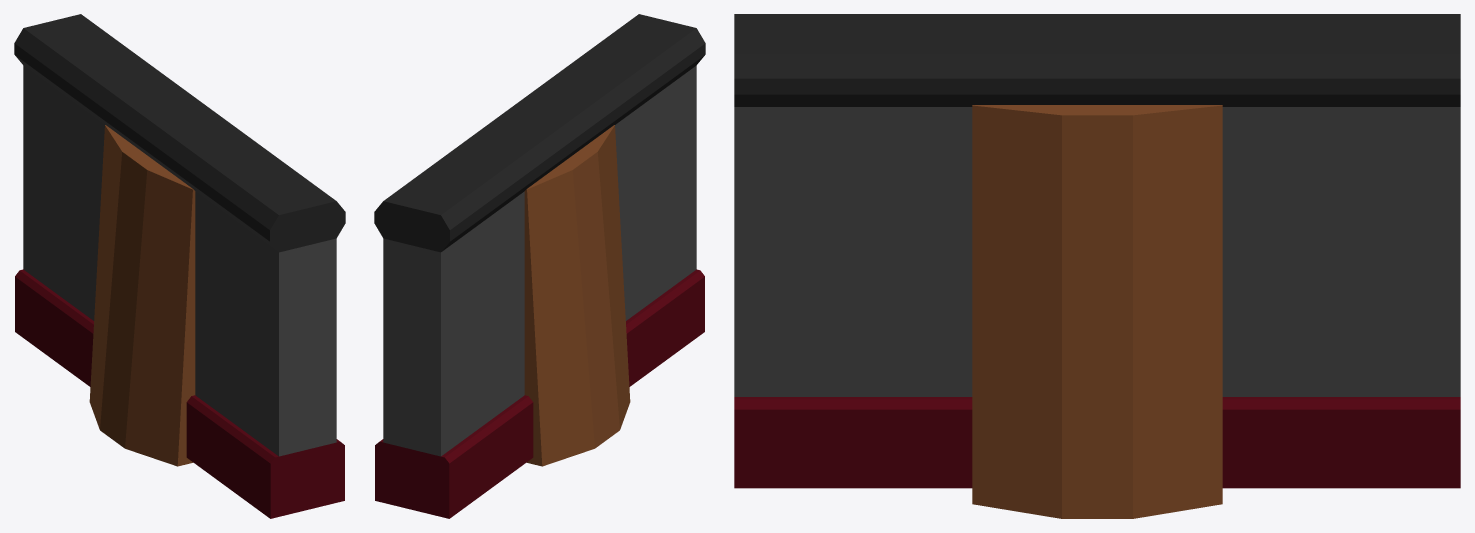
The model's file is Warehouse Brick Wall.fbx.
3 renders of one model, left to right at view 1: azimuth 30°, elevation 25°; view 2: azimuth 150°, elevation 25°; view 3: azimuth 270°, elevation 25°, orthographic. The views are drawn at different scales.
Parts seen in each view (by area): view 1: Warehouse Brick Wall; view 2: Warehouse Brick Wall; view 3: Warehouse Brick Wall.
Boxes of the visible parts, x1,y1,x2,y2 form: Warehouse Brick Wall: [14, 14, 345, 518]; Warehouse Brick Wall: [374, 14, 705, 518]; Warehouse Brick Wall: [734, 14, 1460, 518].
Bounding box in the file's own units: 1536 × 469 × 1022.
